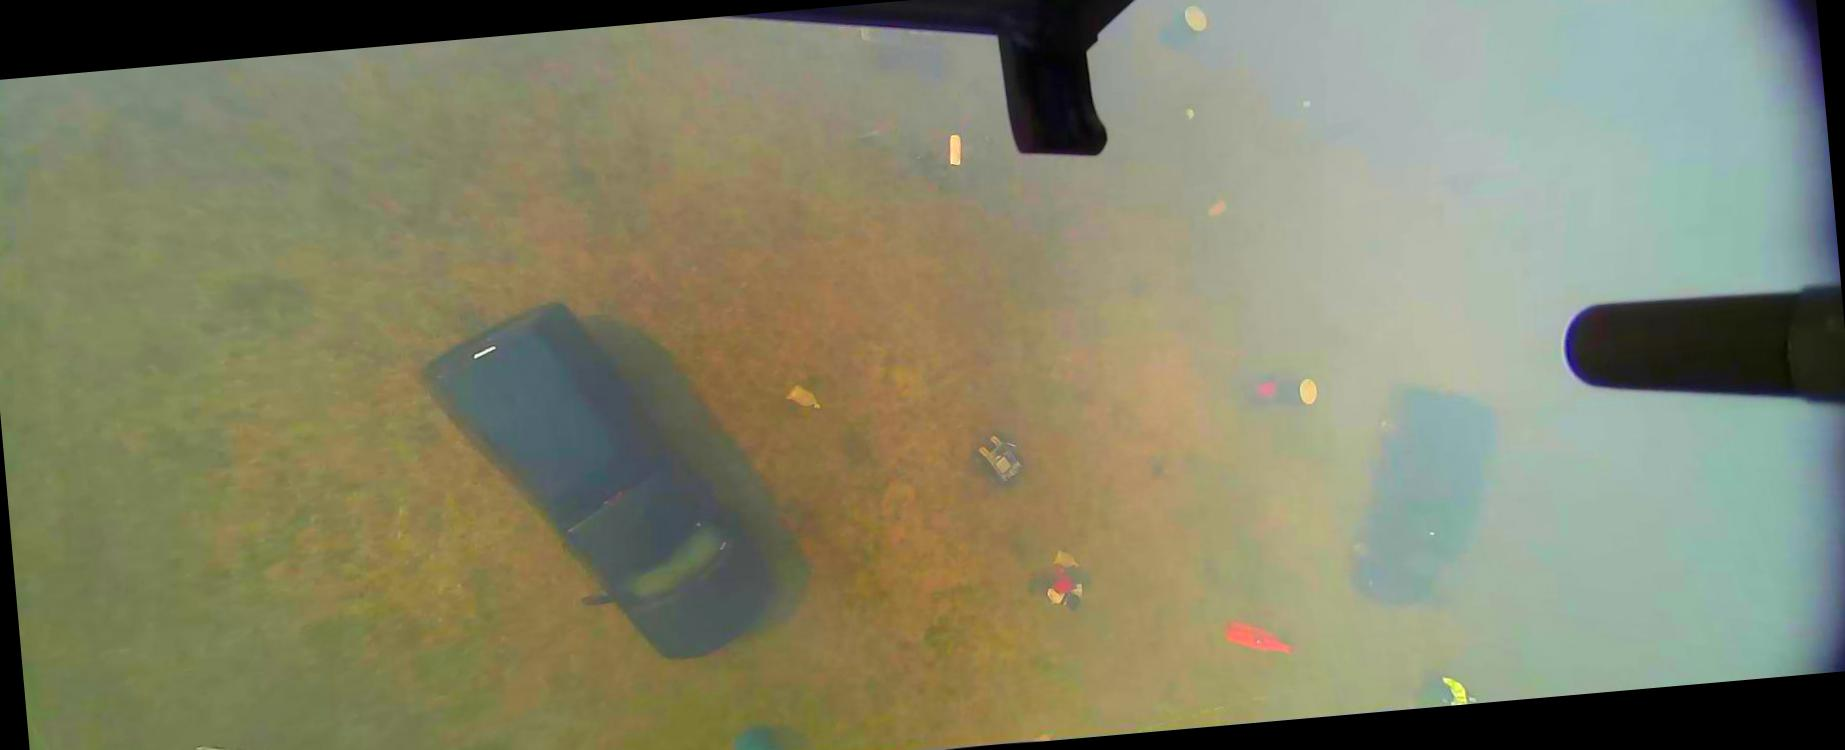vehicle: (414, 284, 780, 682), (1332, 380, 1514, 612)
